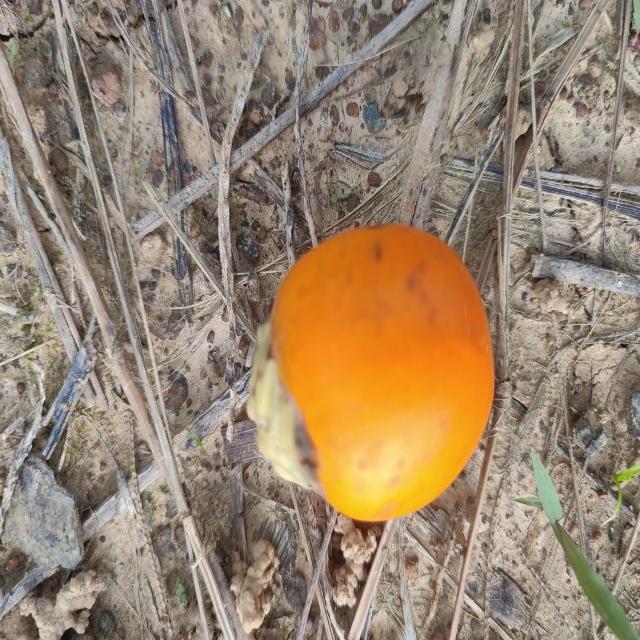good: (249, 225, 496, 525)
